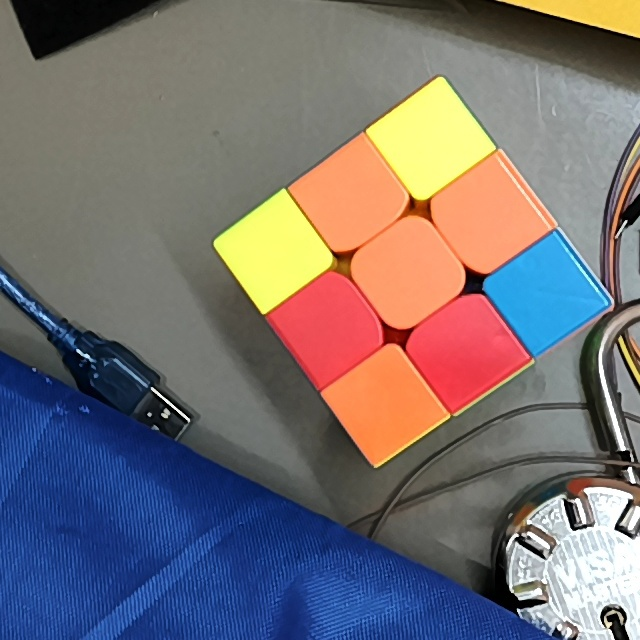tile: (376, 239, 442, 306), (458, 181, 522, 248), (354, 371, 418, 437), (431, 317, 496, 381), (297, 295, 360, 360), (515, 261, 579, 323), (320, 166, 383, 228), (244, 222, 305, 282), (401, 112, 464, 170)
